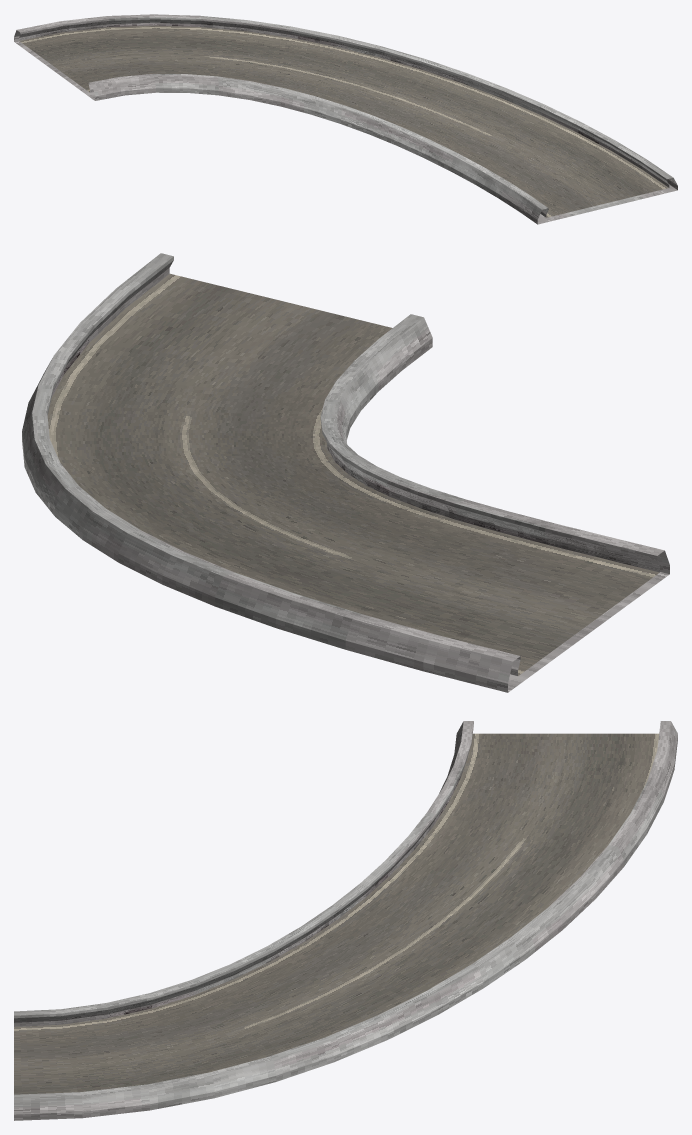
File: road-Turn-Flat-Flat-Up2-Left-Size3.glb
3 renders of one model, top to bottom at view 1: azimuth 30°, elevation 25°; view 2: azimuth 150°, elevation 25°; view 3: azimuth 270°, elevation 25°, orthographic. The views are drawn at different scales.
Visible parts, largest first — view 1: road-Turn-Flat-Flat-Up2-Left-Size3; view 2: road-Turn-Flat-Flat-Up2-Left-Size3; view 3: road-Turn-Flat-Flat-Up2-Left-Size3.
Part boxes in pixels (bbox=[...]): road-Turn-Flat-Flat-Up2-Left-Size3: bbox=[14, 14, 677, 224]; road-Turn-Flat-Flat-Up2-Left-Size3: bbox=[22, 253, 669, 692]; road-Turn-Flat-Flat-Up2-Left-Size3: bbox=[14, 721, 677, 1120].
Size of the model in its own units: 3 by 0.5938 by 3.
Materials: 2 (2 with a texture image).
